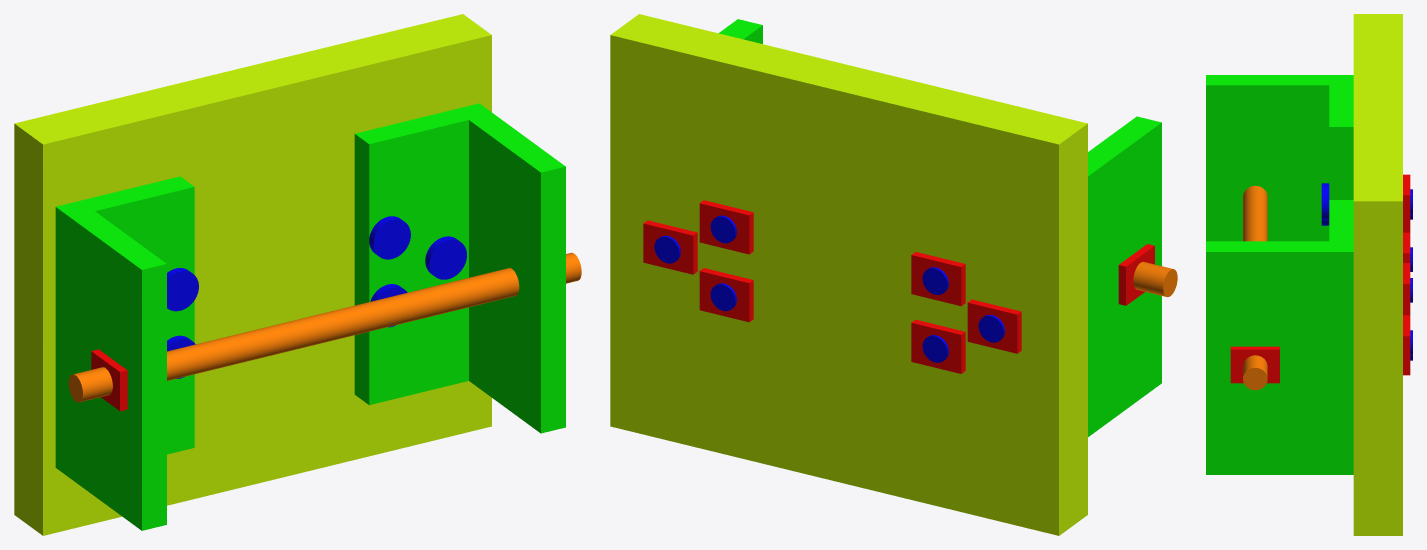
File: as1-oc-214.stp.glb
3 renders of one model, left to right at view 1: azimuth 30°, elevation 25°; view 2: azimuth 150°, elevation 25°; view 3: azimuth 270°, elevation 25°, orthographic. The views are drawn at different scales.
Parts seen in each view (by area): view 1: plate_1, l-bracket_1 (×2), rod_1, bolt_1 (×3), nut_2; view 2: plate_1, l-bracket_1 (×2), nut_3 (×6), rod_1, nut_2; view 3: l-bracket_1 (×2), plate_1, rod_1, nut_3 (×3), nut_1, bolt_1.
Part boxes in pixels (<box>): plate_1: <box>14,14,491,535</box>; l-bracket_1 (×2): <box>55,103,565,530</box>; rod_1: <box>68,252,581,402</box>; bolt_1 (×3): <box>167,216,466,311</box>; nut_2: <box>91,349,127,411</box>; plate_1: <box>610,14,1087,535</box>; l-bracket_1 (×2): <box>719,19,1161,436</box>; nut_3 (×6): <box>643,200,1021,373</box>; rod_1: <box>1133,261,1177,297</box>; nut_2: <box>1118,244,1154,305</box>; l-bracket_1 (×2): <box>1206,75,1353,474</box>; plate_1: <box>1353,14,1402,535</box>; rod_1: <box>1243,185,1267,390</box>; nut_3 (×3): <box>1403,174,1410,369</box>; nut_1: <box>1230,346,1279,383</box>; bolt_1: <box>1321,183,1412,220</box>.
Size of the model in its own units: 0.2 by 0.15 by 0.084.
